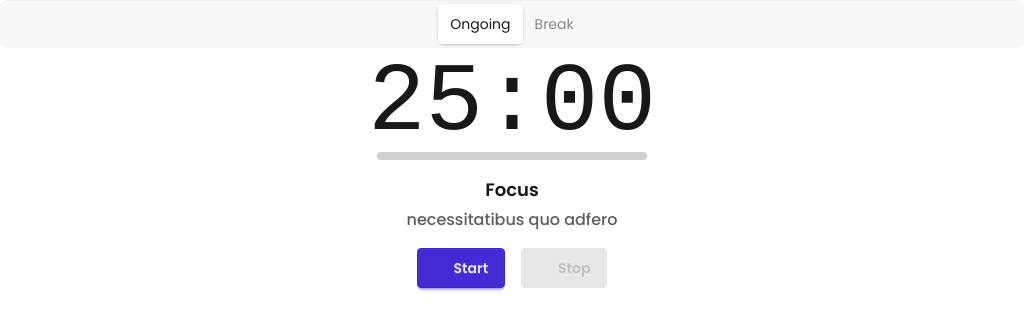
Pomodoro › should switch to Break tab when clicked
Click the radio button named "Break": (554, 24) [522,4,586,44]
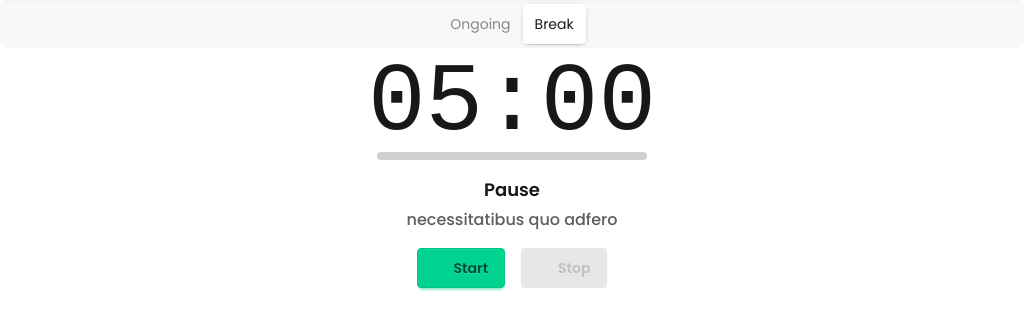
Now the radio button named "Break" is checked, box [522,4,586,44]
Now the radio button named "Ongoing" is not checked, box [438,4,523,44]
